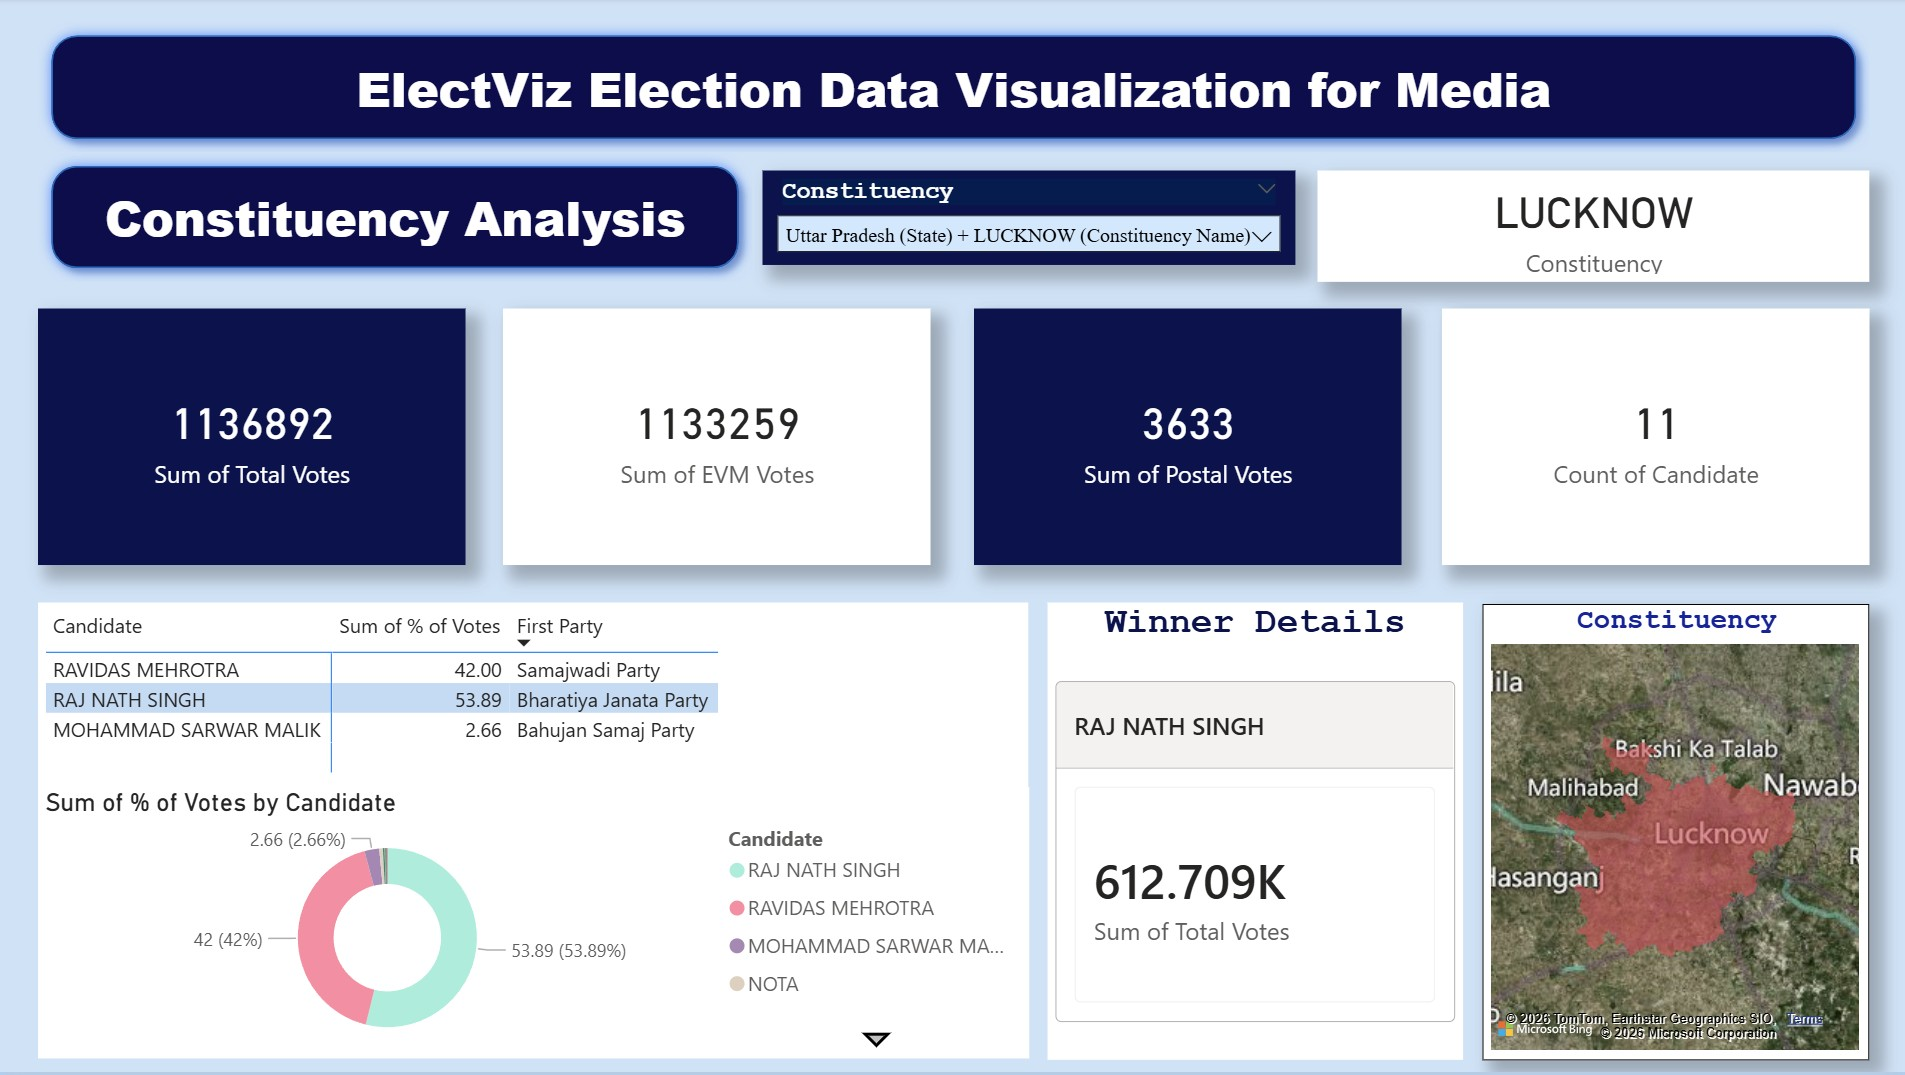

What the dashboard file says about the page in this screenshot:
{"tool":"powerbi","page":{"name":"Constituency Analysis","canvas":[1280,720],"ordinal":1},"visuals":[{"type":"shape","box":[26.2,16.1,1228,87.5],"z":0},{"type":"slicer","fields":{"Values":["states.State","constituencywise_results.Constituency Name"]},"box":[511.9,115.7,357,63.4],"z":1000},{"type":"shape","box":[26.2,103.6,478.7,86.5],"z":2000},{"type":"card","fields":{"Values":["Min(constituencywise_results.Constituency Name)"]},"box":[884.1,115.7,370.1,74.4],"z":3000},{"type":"card","fields":{"Values":["Sum(constituencywise_details.Total Votes)"]},"box":[26.2,208.2,286.6,172],"z":4000},{"type":"card","fields":{"Values":["CountNonNull(constituencywise_details.Candidate)"]},"box":[967.6,208.2,286.6,172],"z":5000},{"type":"card","fields":{"Values":["Sum(constituencywise_details.Postal Votes)"]},"box":[653.8,208.2,286.6,172],"z":6000},{"type":"card","fields":{"Values":["Sum(constituencywise_details.EVM Votes)"]},"box":[337.9,208.2,286.6,172],"z":7000},{"type":"pivotTable","fields":{"Rows":["constituencywise_details.Candidate"],"Values":["Sum(constituencywise_details.% of Votes)","Min(constituencywise_details.Party)"]},"box":[26.7,405.6,664,266.5],"z":8000},{"type":"cardVisual","title":"Winner Details","fields":{"Data":["Sum(constituencywise_results.Total Votes)"],"Rows":["constituencywise_results.Winning Candidate"]},"box":[703,405.3,278.6,306.8],"z":9000},{"type":"donutChart","fields":{"Category":["constituencywise_details.Candidate"],"Y":["Sum(constituencywise_details.% of Votes)"]},"box":[26.2,529,664.8,182],"z":10000},{"type":"filledMap","fields":{"Category":["constituencywise_results.Constituency Name"]},"box":[994.7,406.3,259.5,305.8],"z":11000}]}

Visuals, with their boxes in screenshot pixels (x1, y1, x2, y2), scaled from the page's 1280x720 canvas onto the 1905x1075 screenshot:
shape: (x1=39, y1=24, x2=1867, y2=155)
slicer - states.State x constituencywise_results.Constituency Name: (x1=762, y1=173, x2=1293, y2=267)
shape: (x1=39, y1=155, x2=751, y2=284)
card - Min(constituencywise_results.Constituency Name): (x1=1316, y1=173, x2=1867, y2=284)
card - Sum(constituencywise_details.Total Votes): (x1=39, y1=311, x2=466, y2=568)
card - CountNonNull(constituencywise_details.Candidate): (x1=1440, y1=311, x2=1867, y2=568)
card - Sum(constituencywise_details.Postal Votes): (x1=973, y1=311, x2=1400, y2=568)
card - Sum(constituencywise_details.EVM Votes): (x1=503, y1=311, x2=929, y2=568)
pivotTable - constituencywise_details.Candidate x Sum(constituencywise_details.% of Votes): (x1=40, y1=606, x2=1028, y2=1003)
"Winner Details" cardVisual: (x1=1046, y1=605, x2=1461, y2=1063)
donutChart - constituencywise_details.Candidate x Sum(constituencywise_details.% of Votes): (x1=39, y1=790, x2=1028, y2=1062)
filledMap - constituencywise_results.Constituency Name: (x1=1480, y1=607, x2=1867, y2=1063)
